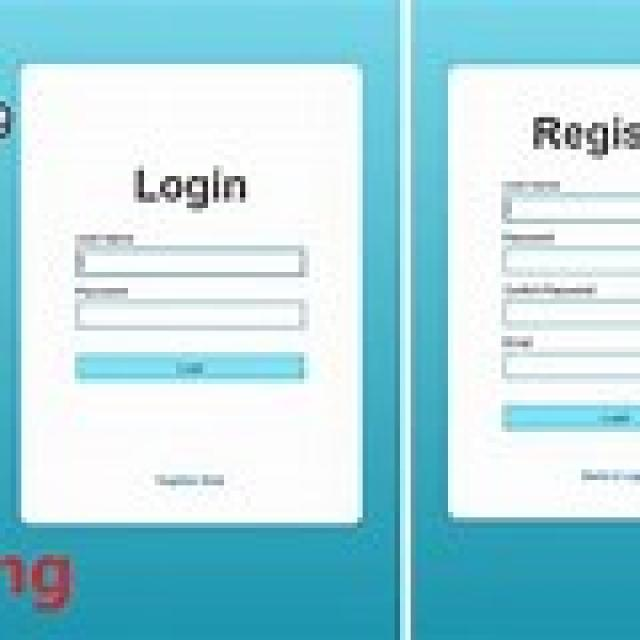button: (71, 349, 306, 382), (496, 394, 640, 426)
input: (71, 233, 312, 282), (70, 292, 312, 332), (496, 187, 640, 224), (496, 240, 640, 277), (502, 295, 640, 329), (496, 346, 640, 378)
label: (126, 157, 256, 216), (521, 106, 640, 161), (149, 470, 231, 490), (576, 464, 640, 480)
